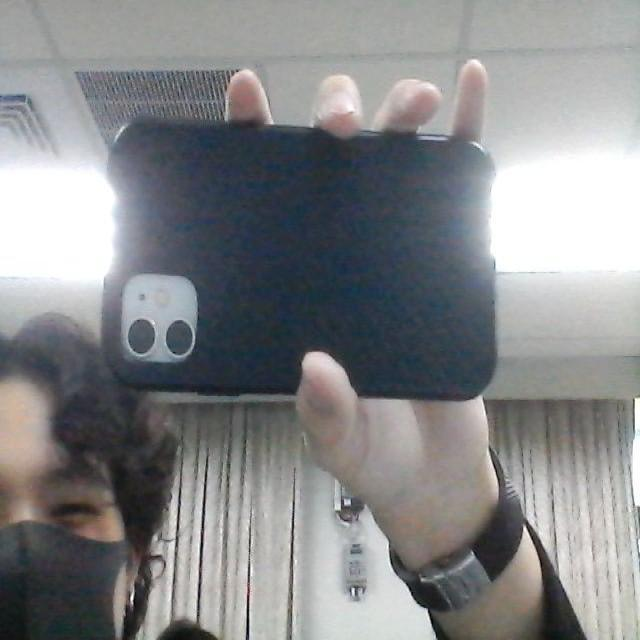phone: (102, 98, 500, 419)
